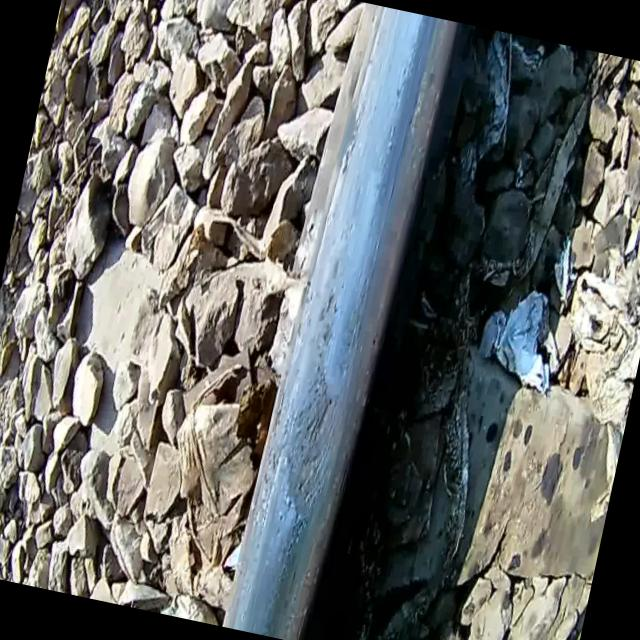Squats: (214, 326, 400, 576)
